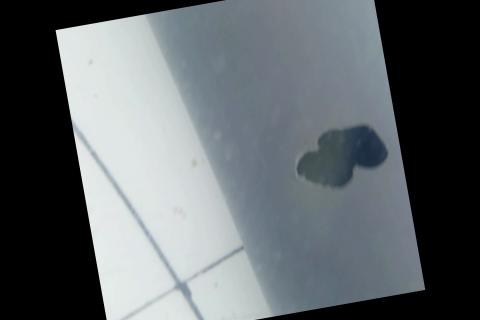kebocoran: (287, 119, 395, 198)
